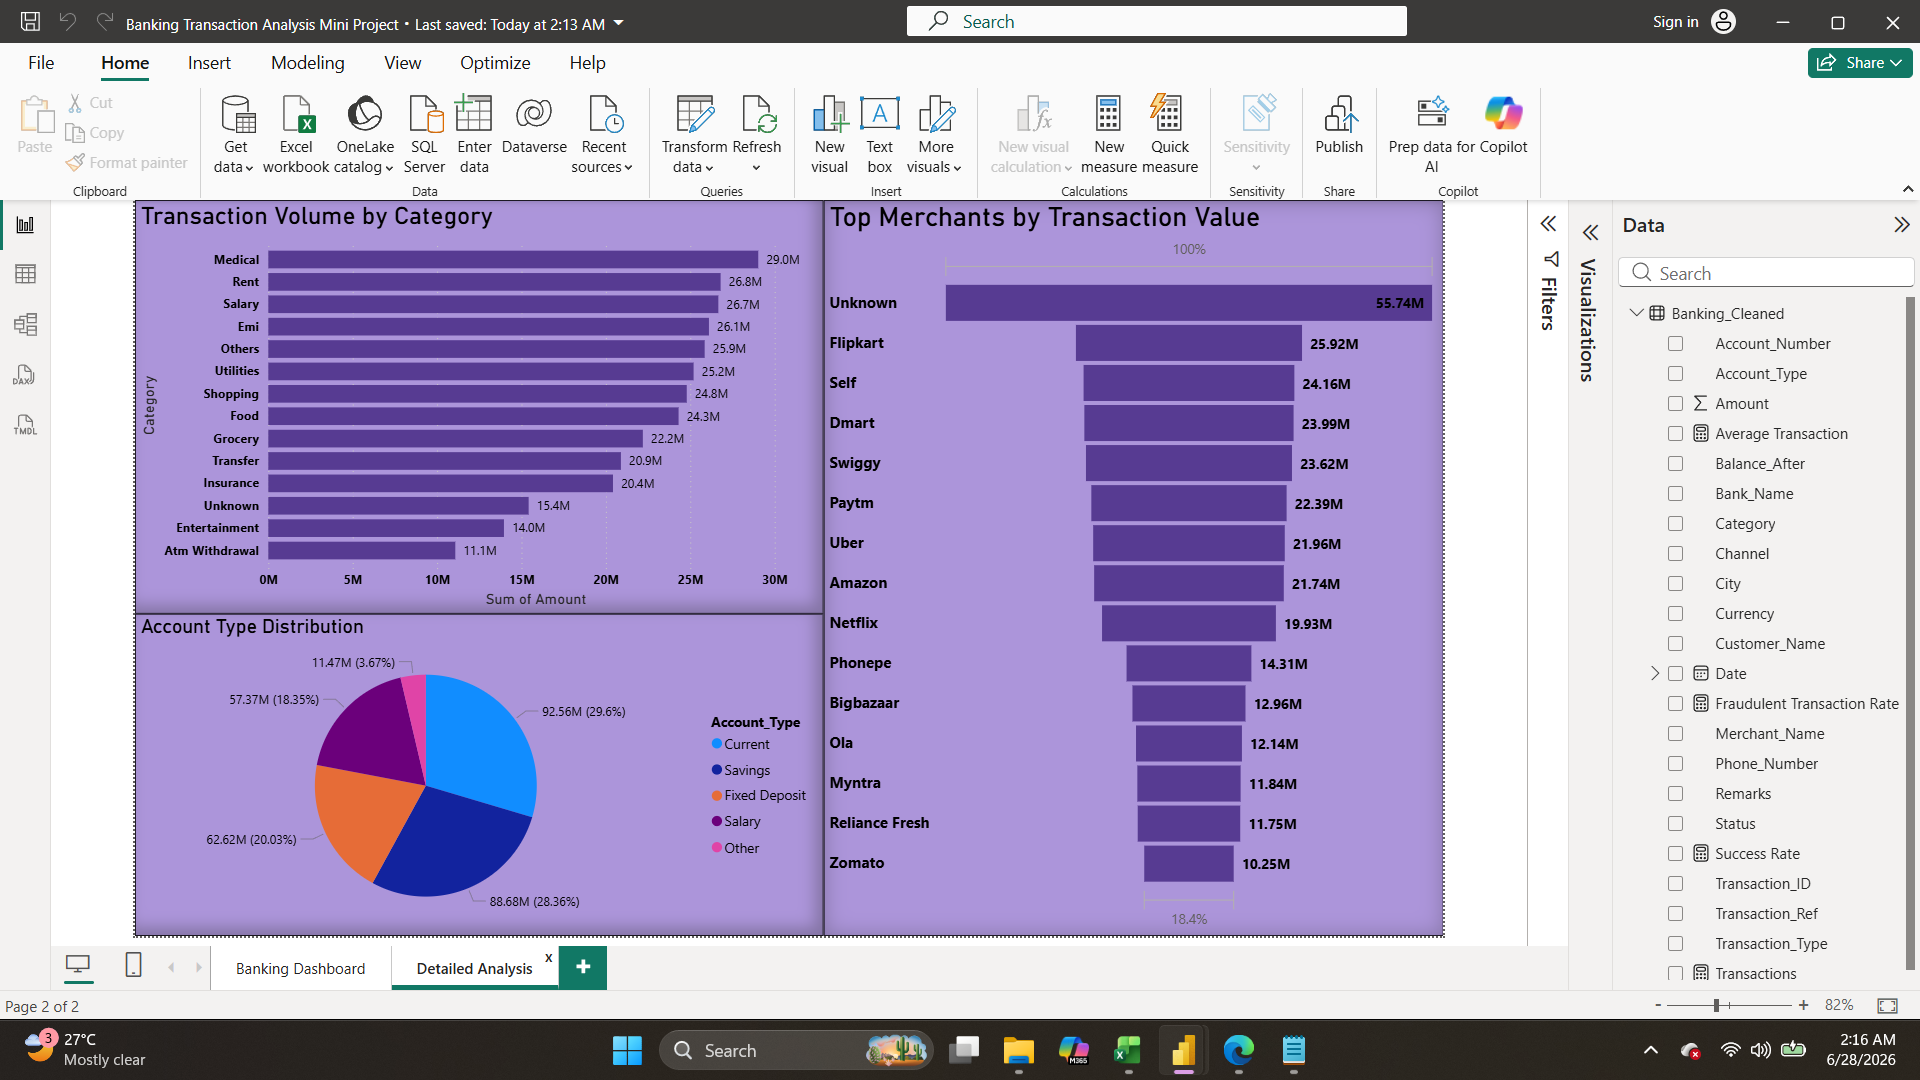

The dashboard page shown, as its layout file describes it:
{"tool":"powerbi","page":{"name":"Detailed Analysis","canvas":[1280,720],"ordinal":1},"visuals":[{"type":"clusteredBarChart","title":"Transaction Volume by Category","fields":{"Category":["Banking_Cleaned.Category"],"Y":["Sum(Banking_Cleaned.Amount)"]},"box":[0,0,673.8,404.8],"z":0},{"type":"pieChart","title":"Account Type Distribution","fields":{"Category":["Banking_Cleaned.Account_Type"],"Y":["Sum(Banking_Cleaned.Amount)"]},"box":[0,404.8,673.8,315.5],"z":1},{"type":"funnel","title":"Top Merchants by Transaction Value","fields":{"Category":["Banking_Cleaned.Merchant_Name"],"Y":["Sum(Banking_Cleaned.Amount)"]},"box":[673.8,0,606.5,720.2],"z":4}]}

Visuals, with their boxes on the page's 1280x720 design canvas (x1, y1, x2, y2). These are canvas units, not pixel positions in the 1920x1080 screenshot, which may show the page scaled, cropped or inside an application window:
"Transaction Volume by Category" clusteredBarChart: left=0, top=0, right=674, bottom=405
"Account Type Distribution" pieChart: left=0, top=405, right=674, bottom=720
"Top Merchants by Transaction Value" funnel: left=674, top=0, right=1280, bottom=720
